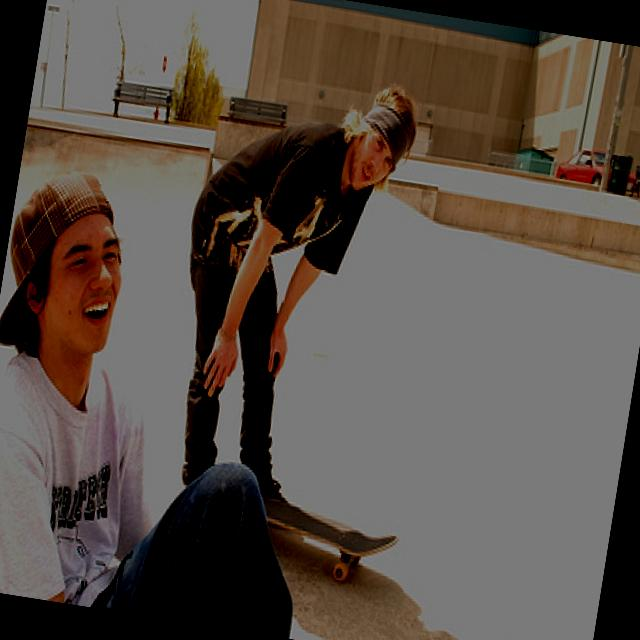Vehicle: (554, 145, 640, 194)
